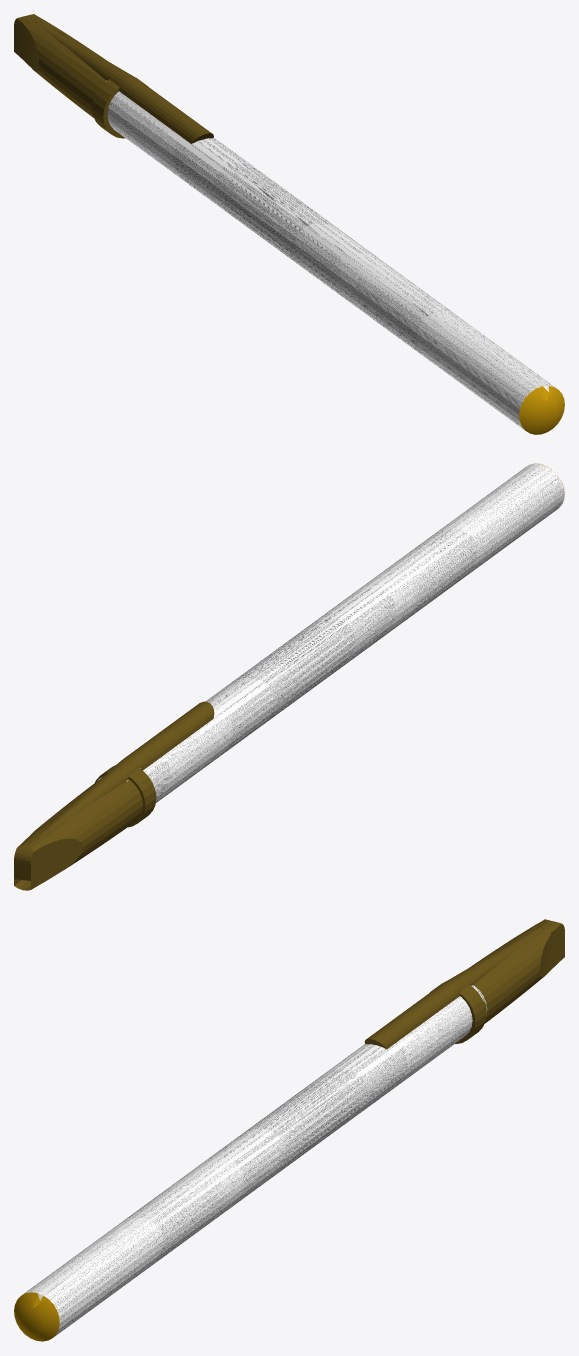
3 renders of one model, top to bottom at view 1: azimuth 30°, elevation 25°; view 2: azimuth 150°, elevation 25°; view 3: azimuth 330°, elevation 25°, orthographic.
Visible parts, largest first — view 1: Component_1 (×2), group_0; view 2: Component_1, group_0; view 3: Component_1 (×2), group_0.
Part boxes in pixels (left/top/right/bottom): Component_1 (×2): left=106, top=80, right=564, bottom=434; group_0: left=14, top=14, right=213, bottom=143; Component_1: left=96, top=464, right=564, bottom=802; group_0: left=14, top=701, right=214, bottom=890; Component_1 (×2): left=14, top=985, right=487, bottom=1341; group_0: left=364, top=919, right=564, bottom=1049.
Size of the model in its own units: 0.3601 by 6.17 by 0.3936.
